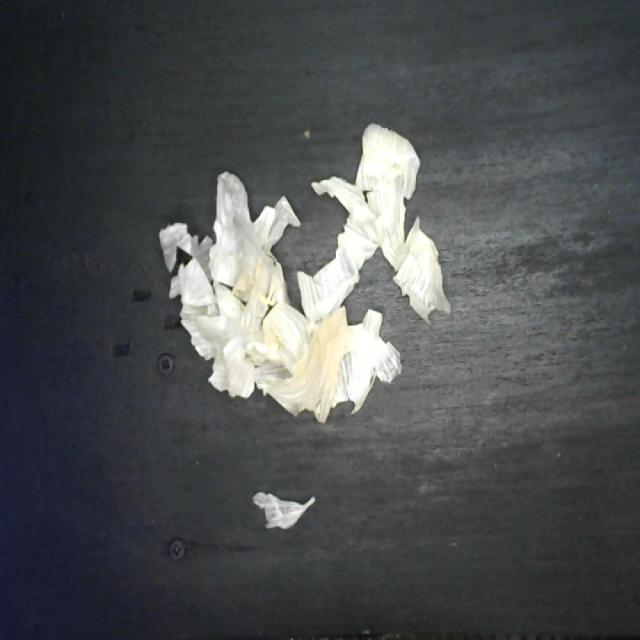biodegradable: (151, 120, 458, 433)
